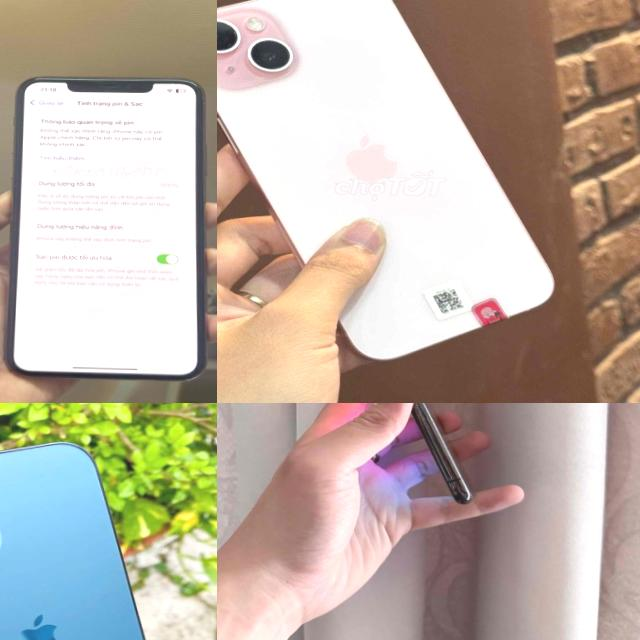gen_11: (5, 77, 206, 380), (68, 78, 152, 92)
gen_12_13: (0, 437, 188, 640)
gen_15: (217, 0, 577, 356)
gen_x_xs: (327, 403, 482, 503)
